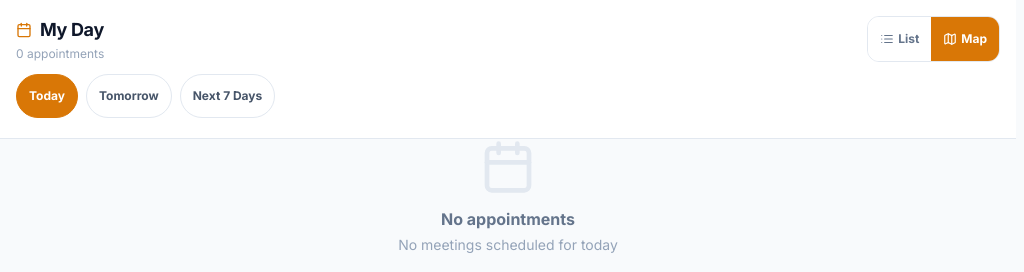
Scenario: MobileDayView — AUTHORITATIVE CURRENT-ACTION RULE (production evidence: Muhammad Khan, Jamey Corey, Mario Ibanez) › an Appointment with no Follow-Up at all, dated a future day, produces NO current work on that day either (no fallback) — Next 7 Days shows nothing for it
The width and height of the screenshot is (1024, 272).
Expected: the heading "My Day" is shown, [16,16,104,44]
Click the button "List" at (900, 39), box [868,17,931,61]
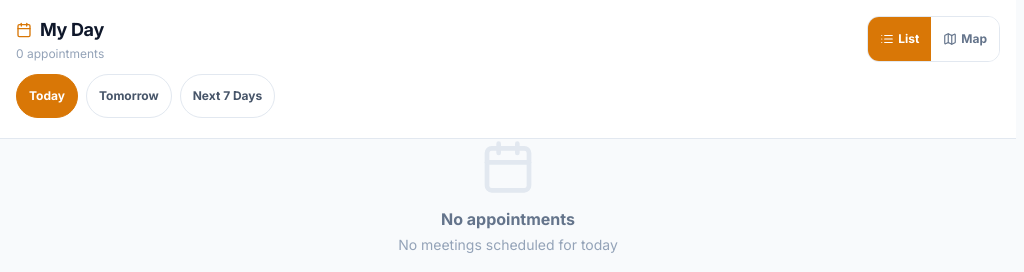
Click the button "Next 7 Days" at (228, 96), box [180,74,275,118]
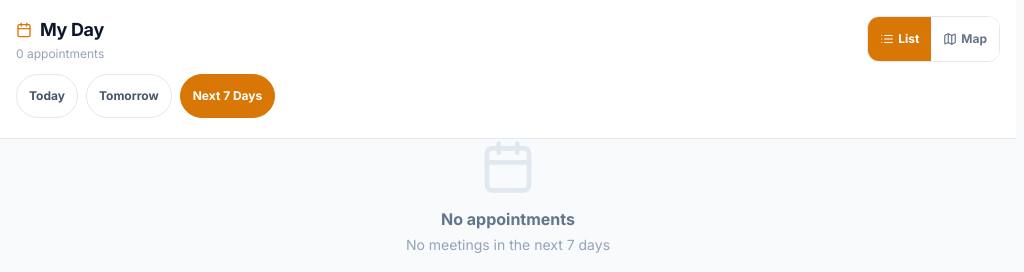
Result: the text "No meetings in the next 7 days" is shown at [406,235,610,255]
